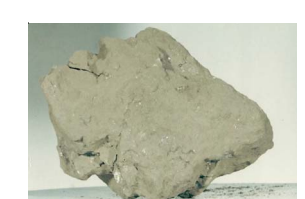Breccia: (33, 23, 294, 198), (40, 55, 150, 185), (104, 58, 216, 170)
